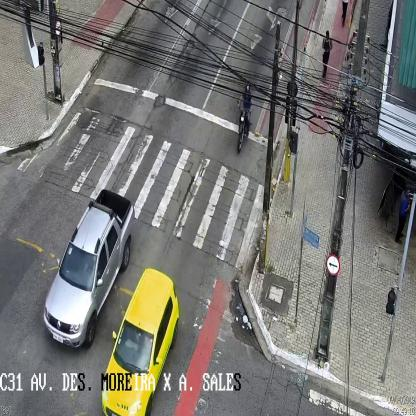car: (42, 188, 131, 345), (101, 268, 177, 416)
motorbike: (236, 78, 253, 157)
person: (396, 188, 411, 248), (322, 29, 332, 81)
